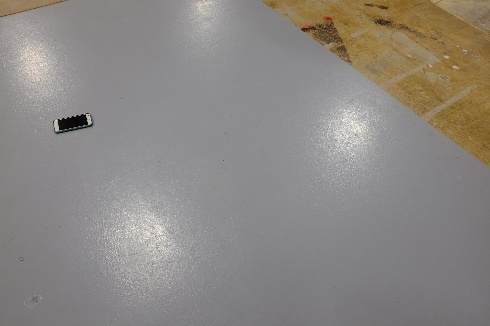phone: (49, 106, 98, 138)
